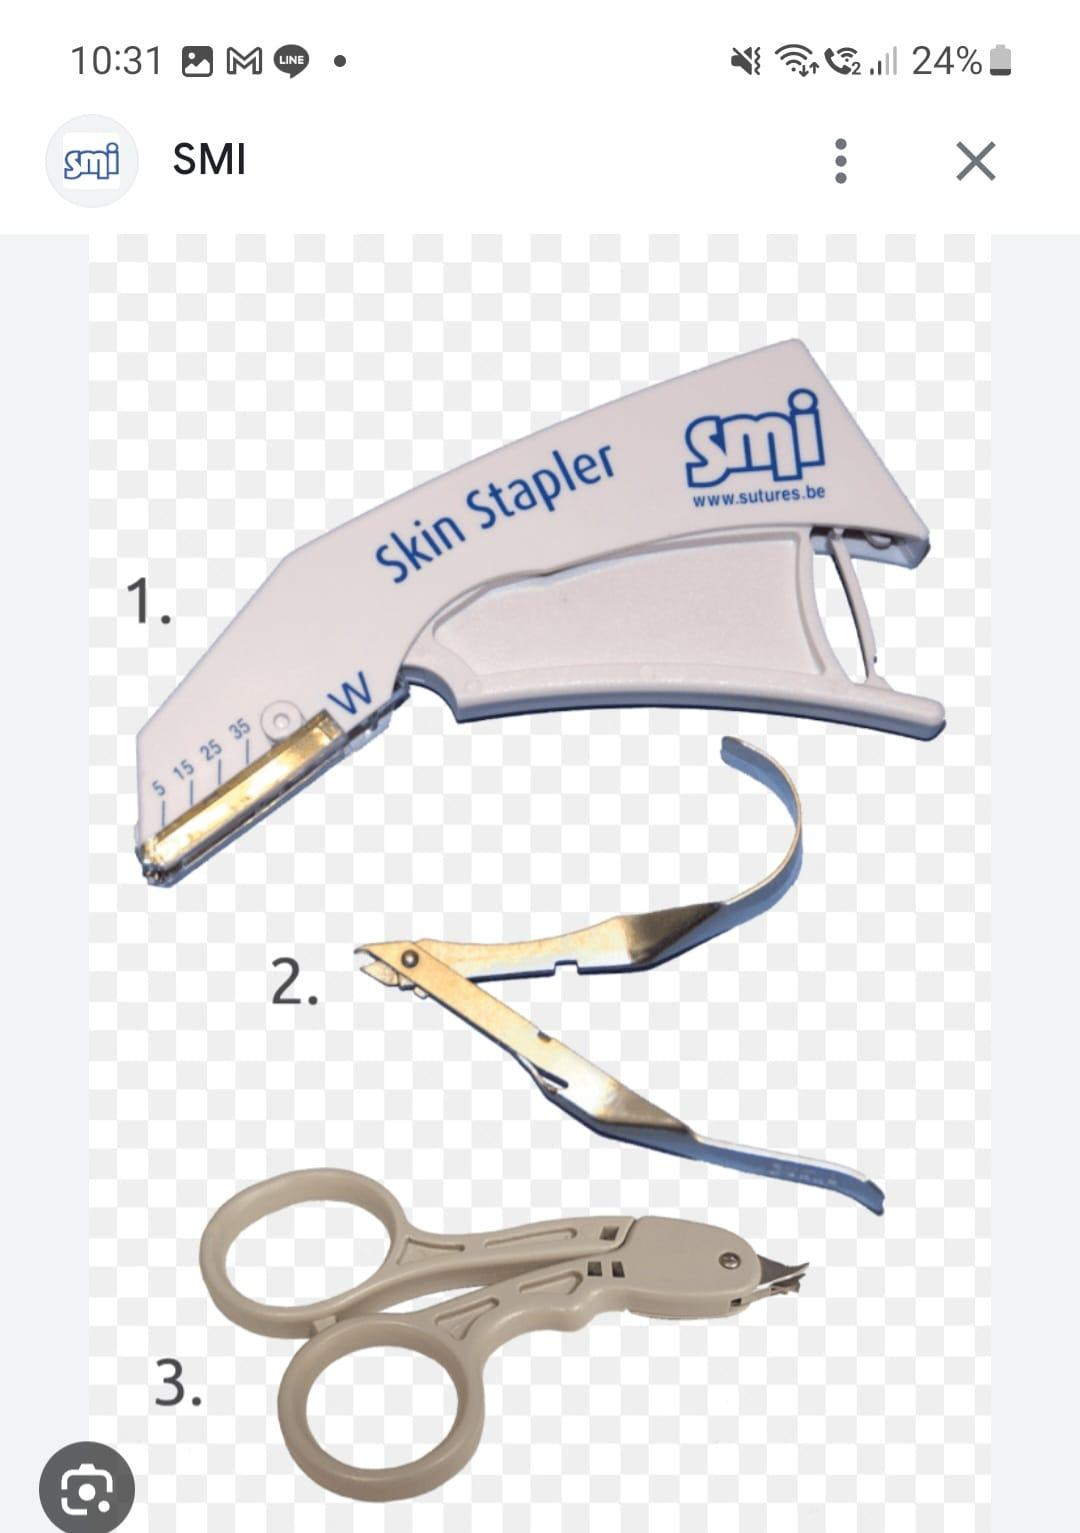Skin Stapler: (125, 327, 960, 902)
Stapler Remover: (175, 1150, 832, 1505)
